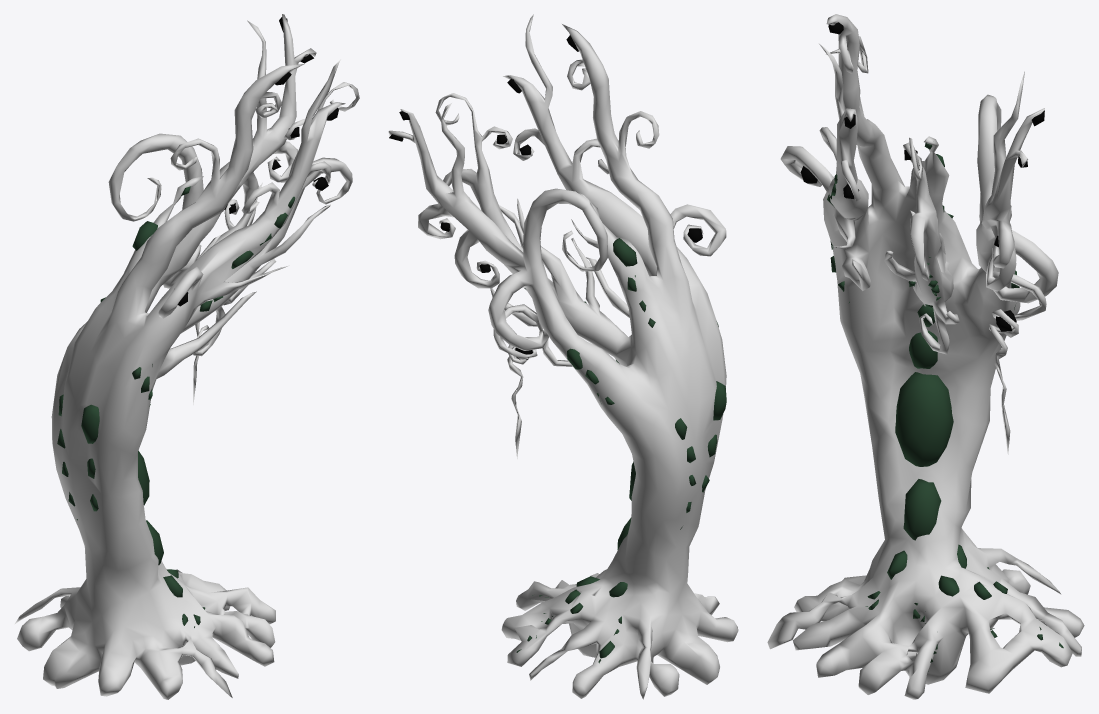
The model's file is tree.fbx.
The picture shows the model from 3 angles, left to right: view 1: azimuth 30°, elevation 25°; view 2: azimuth 150°, elevation 25°; view 3: azimuth 270°, elevation 25°; orthographic projection. The views are drawn at different scales.
Visible parts, largest first — view 1: tree_model_1; view 2: tree_model_1; view 3: tree_model_1.
Part boxes in pixels (x1,y1,x2,y2): tree_model_1: (14, 14, 359, 699); tree_model_1: (388, 14, 738, 699); tree_model_1: (767, 14, 1084, 699).
Size of the model in its own units: 1975 by 3727 by 1528.
